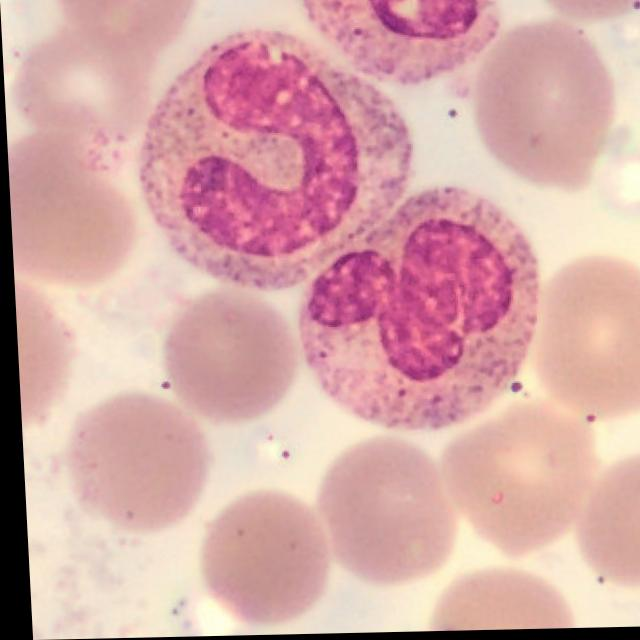Bastonete: (139, 29, 411, 289)
